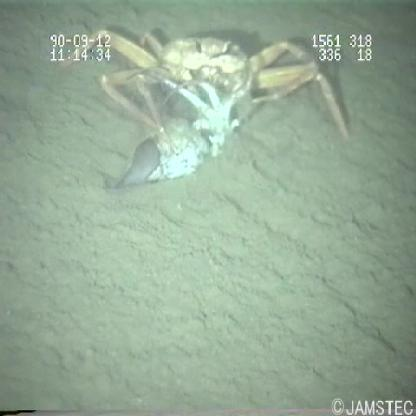Bio: (51, 28, 354, 188)
